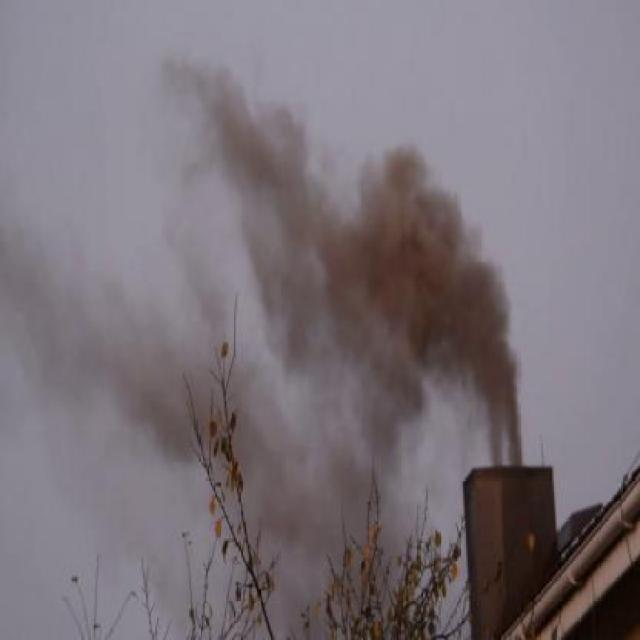smoke: (195, 46, 531, 468), (1, 186, 194, 491)
